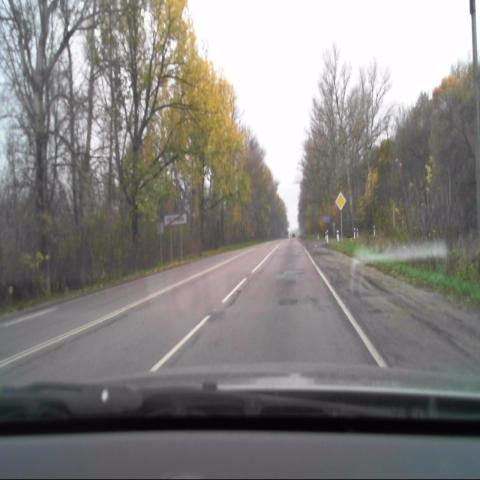2_1: (335, 190, 346, 212)
